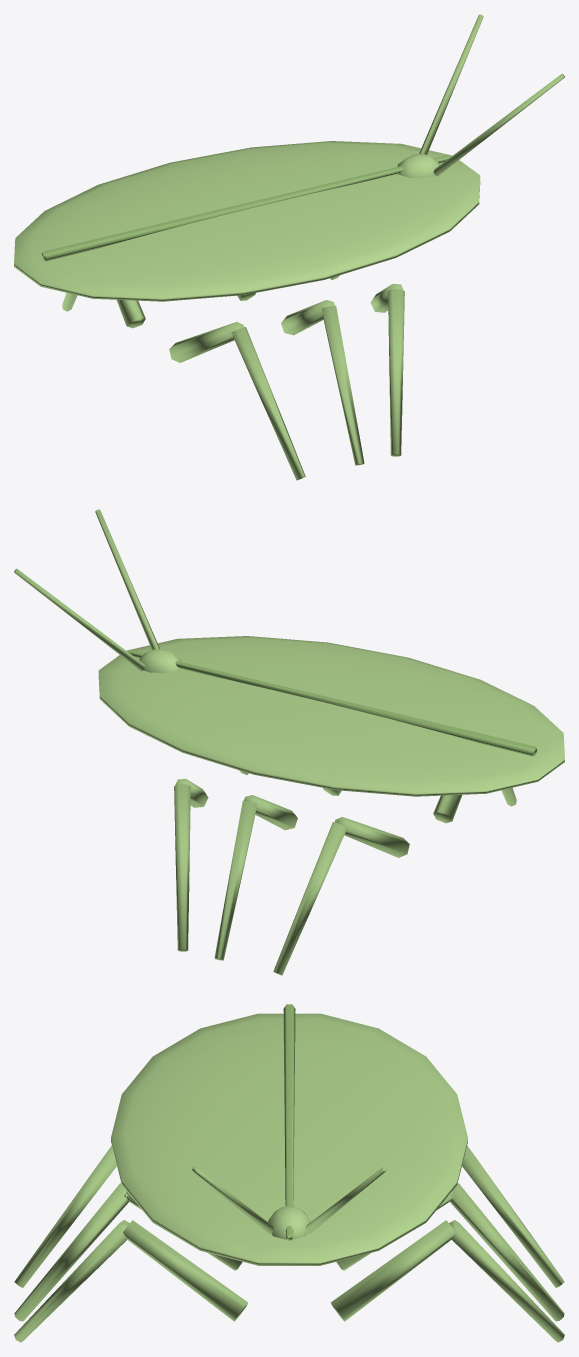
The model's file is giant-leaf-insect.glb.
3 renders of one model, top to bottom at view 1: azimuth 30°, elevation 25°; view 2: azimuth 150°, elevation 25°; view 3: azimuth 270°, elevation 25°, orthographic. The views are drawn at different scales.
Parts seen in each view (by area): view 1: e; view 2: e; view 3: e.
Boxes of the visible parts, bbox=[...] form: e: bbox=[14, 14, 564, 480]; e: bbox=[14, 509, 564, 975]; e: bbox=[14, 1004, 564, 1342].
Size of the model in its own units: 0.6057 by 0.3138 by 0.5041.
